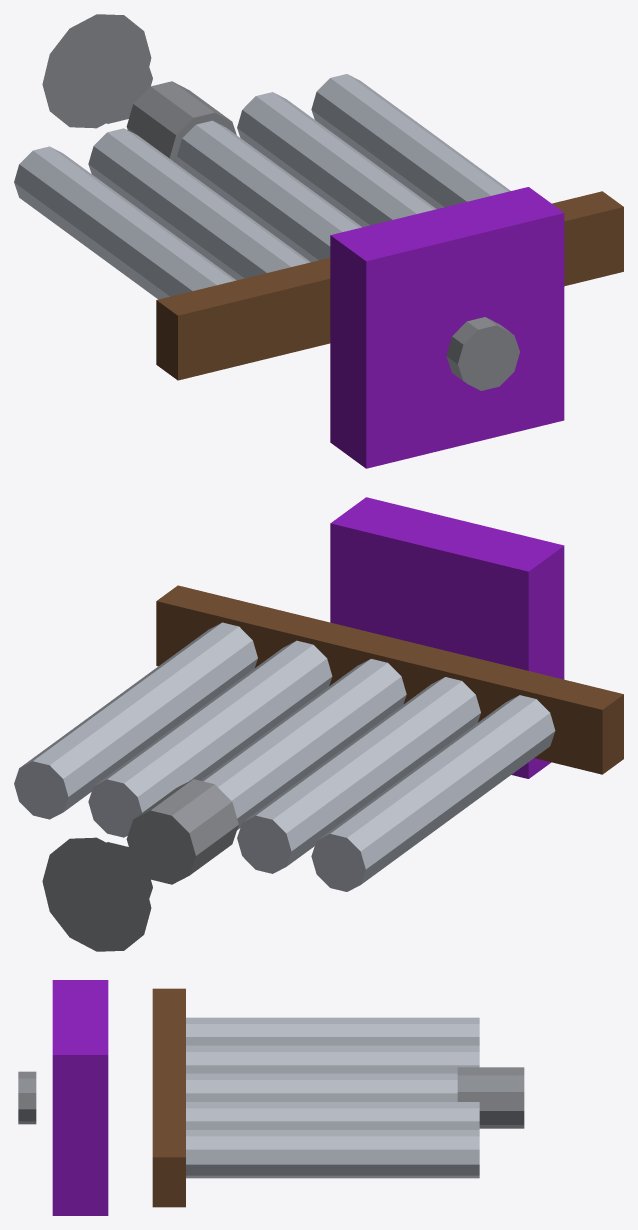
Rendered from SM_WindChime_Purple.obj.
The picture shows the model from 3 angles, top to bottom: view 1: azimuth 30°, elevation 25°; view 2: azimuth 150°, elevation 25°; view 3: azimuth 270°, elevation 25°; orthographic projection. The views are drawn at different scales.
Visible parts, largest first — view 1: mesh; view 2: mesh; view 3: mesh.
Boxes of the visible parts, box(x1,y1,x2,y2) form: mesh: box(14, 14, 623, 468); mesh: box(14, 497, 623, 951); mesh: box(18, 980, 524, 1215).
Bounding box in the file's own units: 18 × 8 × 27.5.
